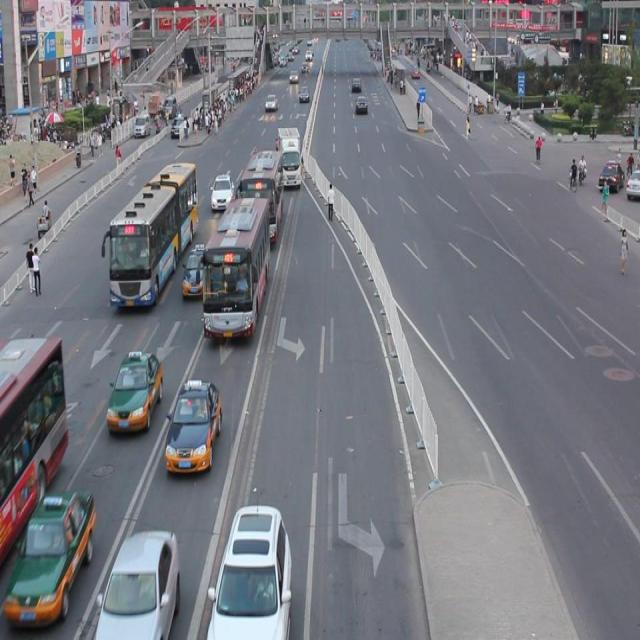bus: (276, 127, 303, 187)
car: (1, 491, 95, 618), (209, 506, 292, 640), (97, 532, 179, 640), (166, 379, 220, 470), (106, 352, 163, 428), (182, 243, 210, 295), (210, 175, 235, 209), (276, 132, 293, 158)
van: (1, 339, 70, 551), (102, 162, 199, 306), (201, 198, 269, 338), (238, 151, 283, 244)
